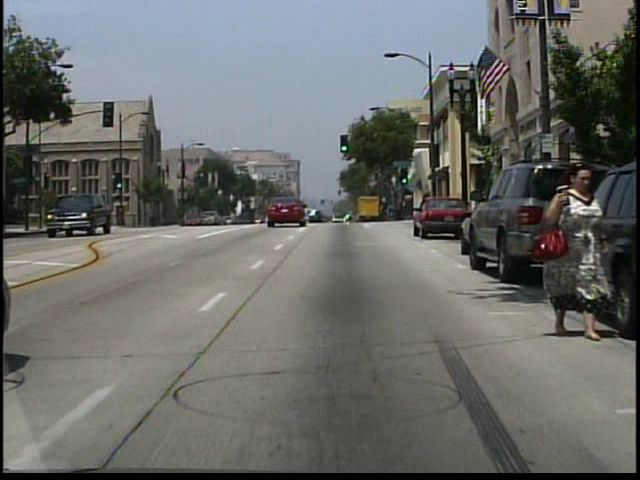person: (544, 158, 618, 340)
